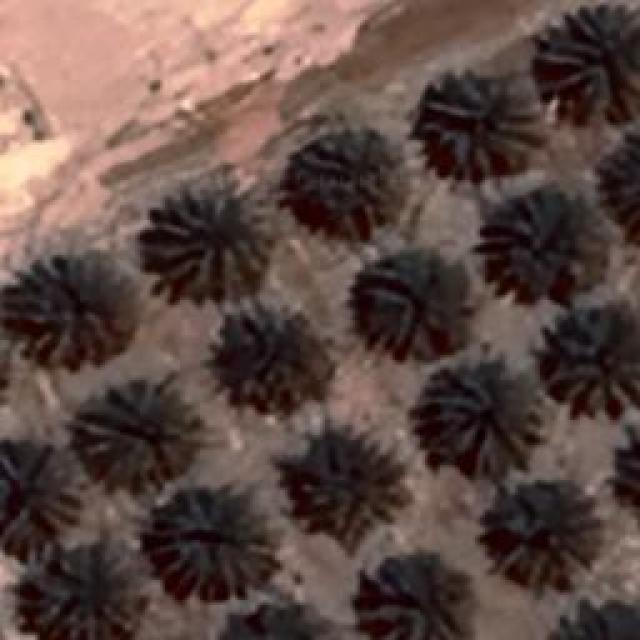PalmTree: (30, 105, 625, 474), (126, 118, 538, 246), (415, 352, 543, 478), (140, 178, 272, 300), (276, 122, 404, 242), (150, 480, 280, 598), (478, 474, 602, 596), (205, 292, 330, 410), (75, 378, 203, 492), (420, 68, 545, 178), (285, 430, 410, 535), (12, 255, 120, 365), (352, 248, 460, 358), (538, 300, 638, 418), (18, 542, 140, 638), (538, 5, 638, 120), (358, 555, 472, 635), (0, 440, 85, 535), (215, 595, 343, 640), (596, 124, 640, 248), (542, 596, 640, 640)
